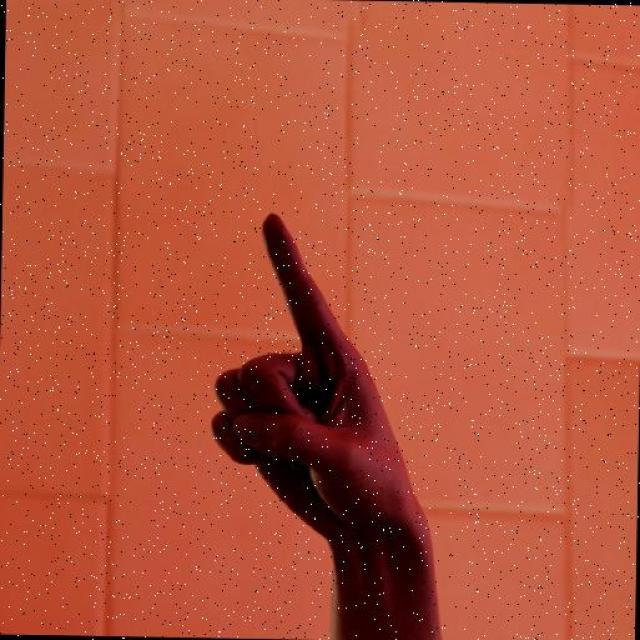Z: (199, 208, 440, 612)
